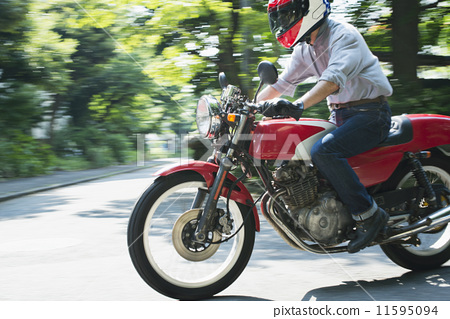helmet: (267, 2, 334, 43)
